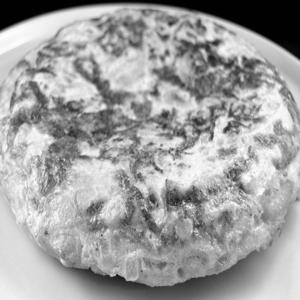omelet: (13, 19, 282, 280)
